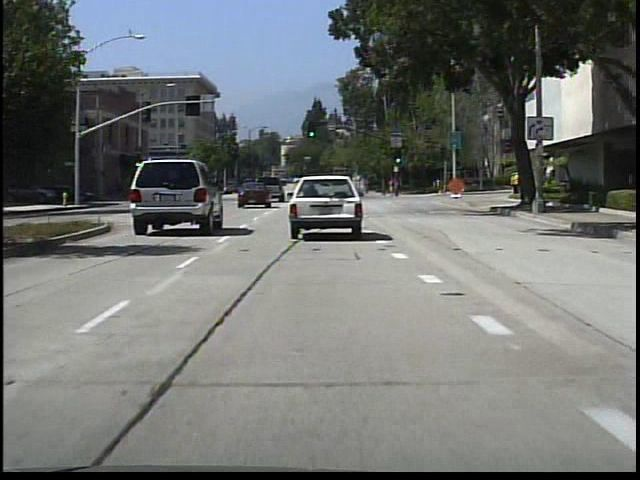person: (386, 172, 400, 200)
